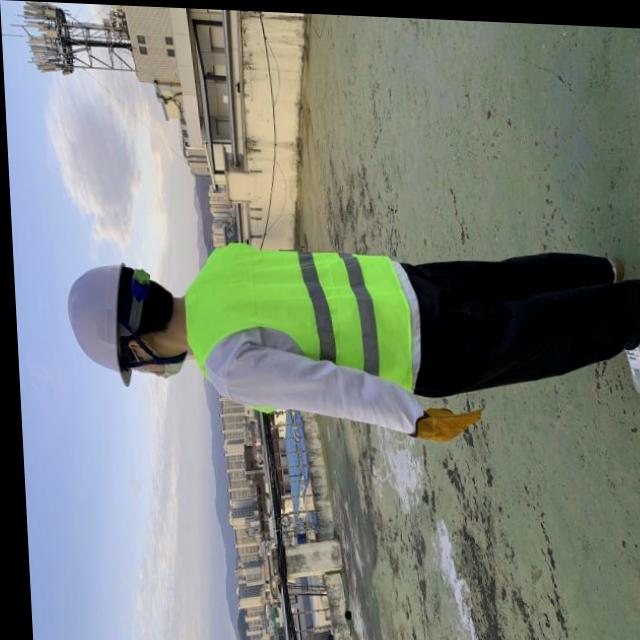Gloves: (408, 399, 480, 440)
Safety-Vest: (177, 237, 420, 415)
